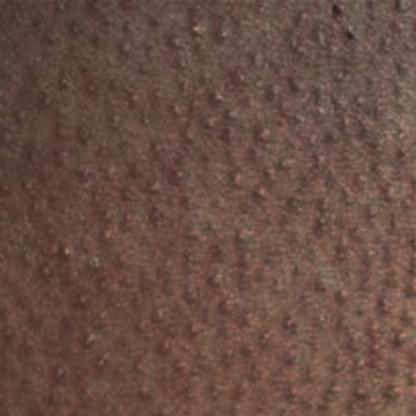Chicken Skin: (1, 2, 415, 415)
